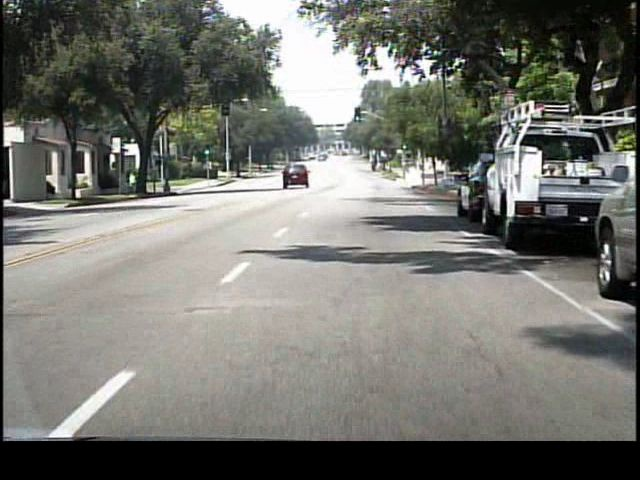person: (130, 170, 138, 195)
